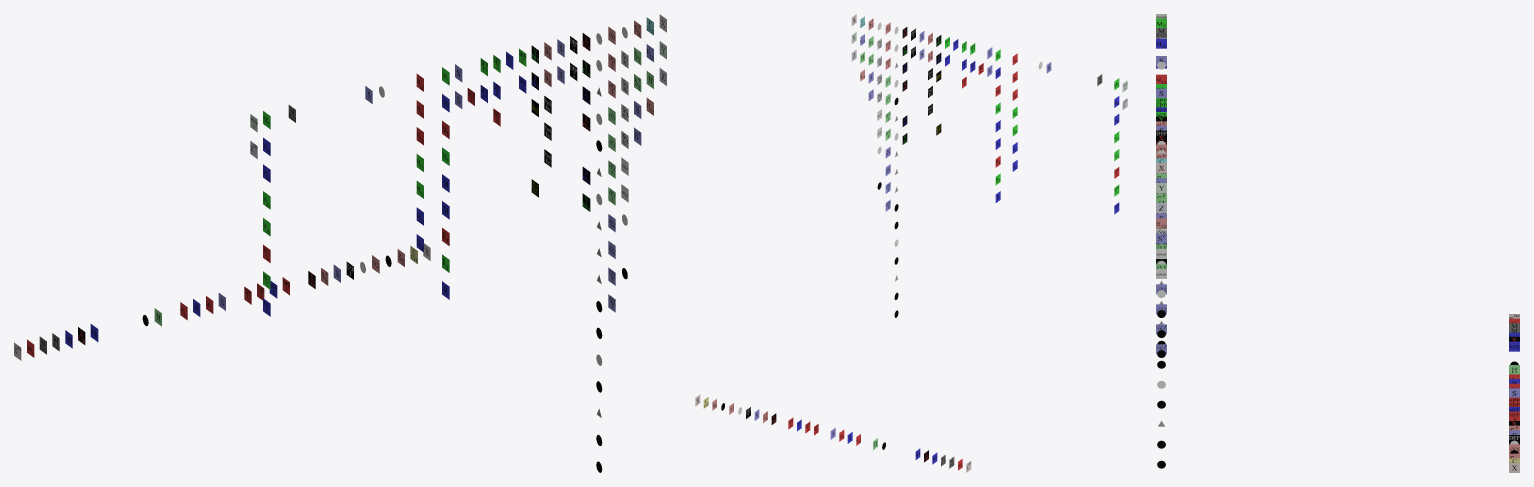
The model's file is circuit_all_ops_3d.gltf.
3 renders of one model, left to right at view 1: azimuth 30°, elevation 25°; view 2: azimuth 150°, elevation 25°; view 3: azimuth 270°, elevation 25°, orthographic. The views are drawn at different scales.
Bounding box in the file's own units: 32 × 32.9 × 33.
Materials: 6 (1 with a texture image).
